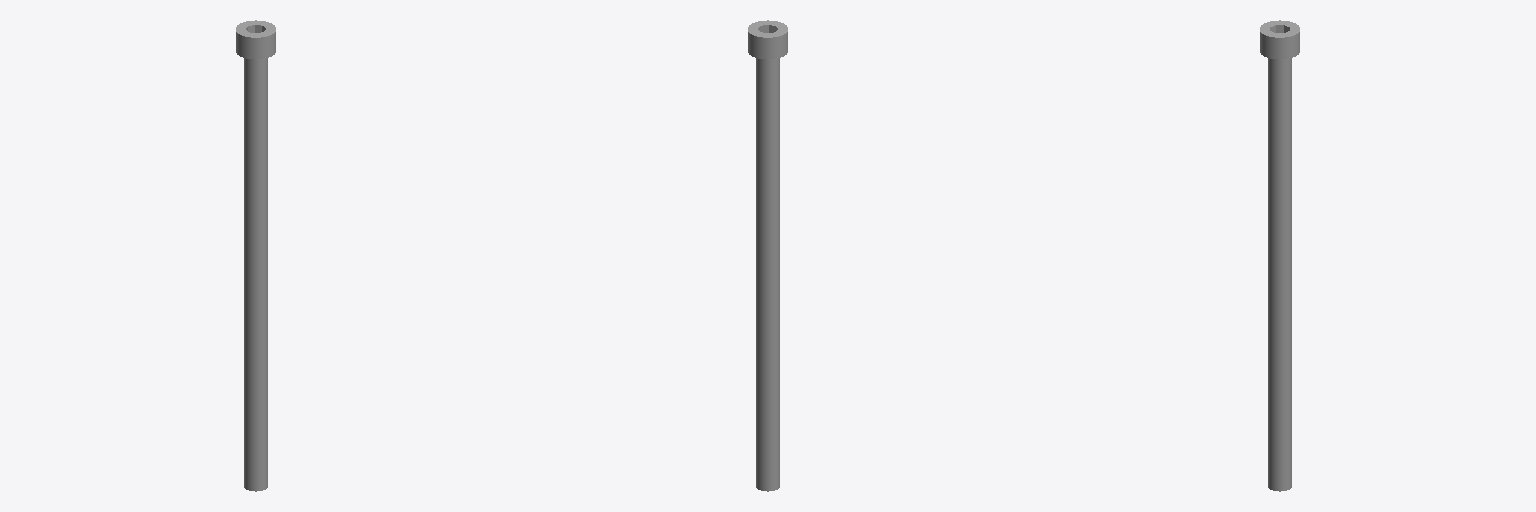
URDF robot description (S2):
<robot name="S2">
	<link name="baselink" />
	<joint name="dummy" type="fixed">
		<parent link="baselink" />
		<child link="geometry" />
	</joint>
	<link name="geometry">
		<contact>
			<lateral_friction value="1.0" />
			<spinning_friction value="0.2" />
			<rolling_friction value="0.001" />
			<contact_cfm value="0.0" />
			<contact_erp value="0.8" />
			<damping value="1000" />
			<stiffness value="30000" />
		</contact>
		<inertial>
			<origin rpy="0 0 0" xyz="-39.59797980991797 -39.59797980991798 53.78406527220303" />
			<mass value="1.0" />
			<inertia ixx="1" ixy="0" ixz="0" iyy="1" iyz="0" izz="1" />
		</inertial>
		<visual>
			<origin rpy="0 0 0" xyz="0 0 0" />
			<geometry>
				<mesh filename="mesh/S2.stl" />
			</geometry>
			<material name="base">
				<color rgba="0.7 0.7 0.7 1" />
			</material>
		</visual>
		<collision>
			<origin rpy="0 0 0" xyz="0 0 0" />
			<geometry>
				<mesh filename="mesh/S2.stl" />
			</geometry>
		</collision>
	</link>
</robot>

--- Facts derived from the render (not from the file) ---
Views: 3 orthographic renders of the robot side by side, from view 1: azimuth 30°, elevation 25°; view 2: azimuth 150°, elevation 25°; view 3: azimuth 270°, elevation 25°.
Model S2 with 2 links and 1 joints (1 fixed), rooted at baselink, posed every joint at zero.
Visible links, largest first — view 1: geometry; view 2: geometry; view 3: geometry.
Boxes of the visible links, box(x1,y1,x2,y2) form: geometry: box(236, 20, 275, 491); geometry: box(748, 20, 787, 491); geometry: box(1260, 20, 1299, 491).
Bounding box of the posed robot: 8.5 × 8.5 × 105 m (x, y, z).
Meshes: 1 distinct files referenced, 1 mesh visuals loaded (1 binary STL).